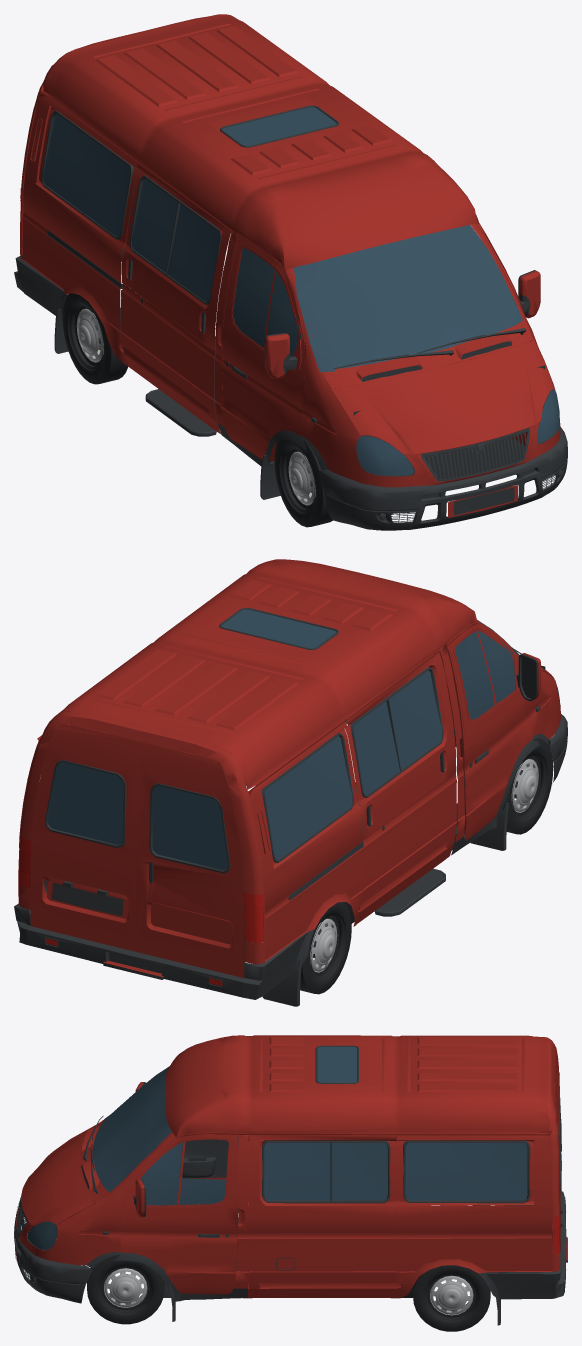
Rendered from gaz2217.glb.
3 renders of one model, top to bottom at view 1: azimuth 30°, elevation 25°; view 2: azimuth 150°, elevation 25°; view 3: azimuth 270°, elevation 25°, orthographic. The views are drawn at different scales.
Visible parts, largest first — view 1: paint, glass, trim, wheel_rr, wheel_fr, bulkhead; view 2: paint, glass, trim, wheel_rr, wheel_fr, taillights; view 3: paint, glass, trim, wheel_rl, wheel_fl.
Boxes of the visible parts, x1=… form: paint: x1=20, y1=14, x2=560, y2=517; glass: x1=42, y1=107, x2=560, y2=475; trim: x1=14, y1=105, x2=567, y2=530; wheel_rr: x1=62, y1=293, x2=127, y2=384; wheel_fr: x1=274, y1=439, x2=332, y2=527; bulkhead: x1=353, y1=365, x2=545, y2=483; paint: x1=18, y1=559, x2=560, y2=977; glass: x1=47, y1=609, x2=560, y2=870; trim: x1=14, y1=608, x2=567, y2=1006; wheel_rr: x1=300, y1=902, x2=351, y2=994; wheel_fr: x1=502, y1=738, x2=553, y2=834; taillights: x1=18, y1=836, x2=263, y2=986; paint: x1=15, y1=1035, x2=567, y2=1298; glass: x1=27, y1=1047, x2=560, y2=1250; trim: x1=14, y1=1045, x2=567, y2=1325; wheel_rl: x1=413, y1=1265, x2=490, y2=1331; wheel_fl: x1=87, y1=1254, x2=164, y2=1324.
Size of the model in its own units: 2.42 by 2.36 by 5.36.
